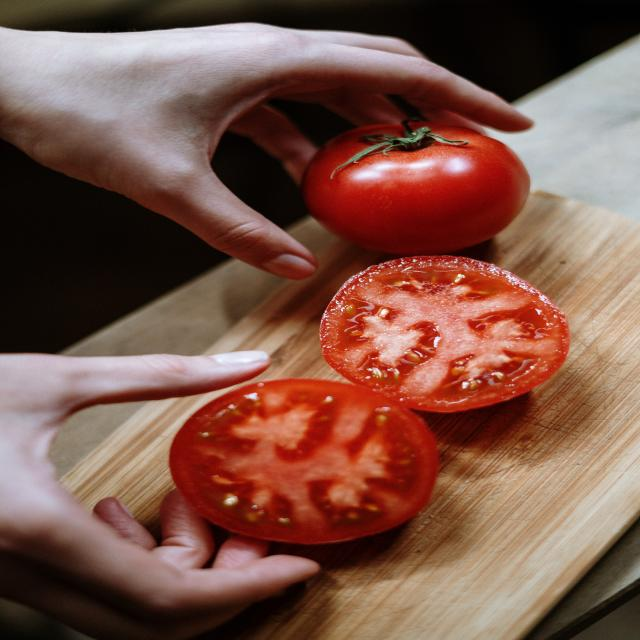Tomato: (148, 369, 491, 559), (337, 258, 586, 412), (287, 114, 555, 254)
